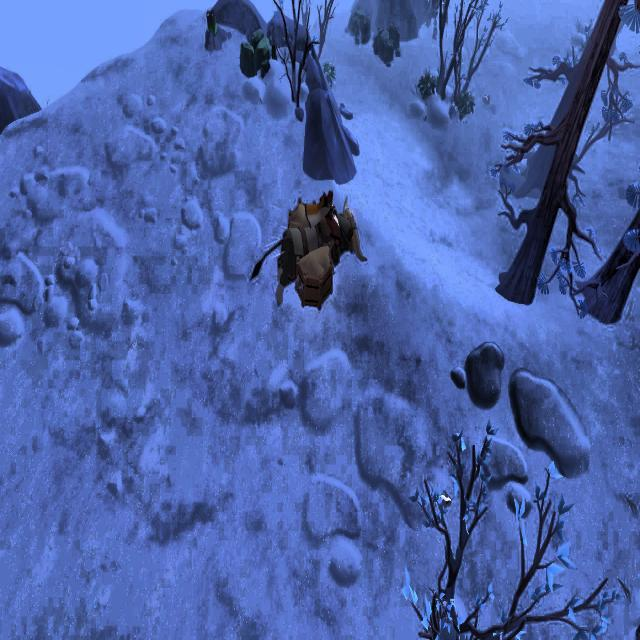fiber_t3: (416, 72, 439, 105), (454, 90, 475, 118), (320, 58, 340, 85)
ore_t3: (205, 9, 218, 38)
rock_t3: (233, 23, 275, 84), (345, 3, 372, 56), (376, 20, 404, 67)
